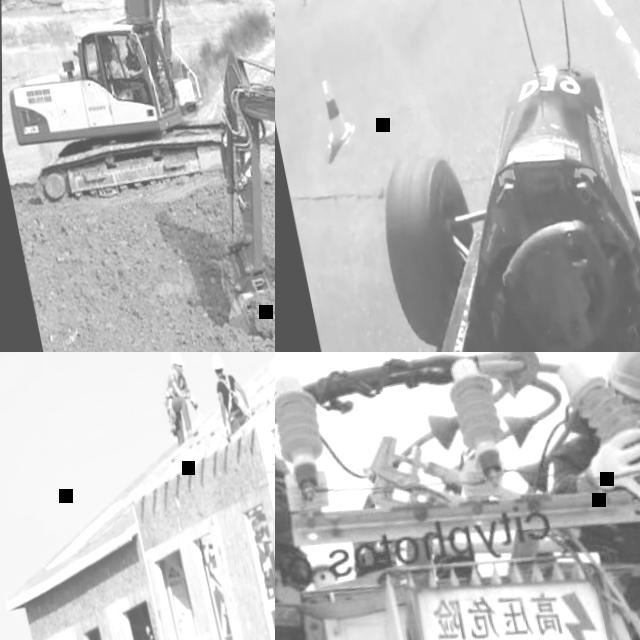Hardhat: (595, 352, 640, 415), (169, 352, 183, 366)
NO-Hardhat: (109, 43, 120, 55)
NO-Mask: (176, 368, 183, 375)
NO-Safety Vest: (561, 414, 640, 601), (217, 373, 241, 418), (161, 368, 186, 398)
Person: (521, 352, 640, 640), (275, 352, 376, 640), (154, 352, 209, 446), (209, 352, 255, 437), (105, 41, 149, 109)
Safety Cone: (319, 77, 353, 145), (298, 0, 309, 7)
Safety Vest: (109, 58, 130, 81)
machinery: (0, 0, 275, 224), (177, 0, 275, 352)
vehicle: (318, 24, 640, 352)
